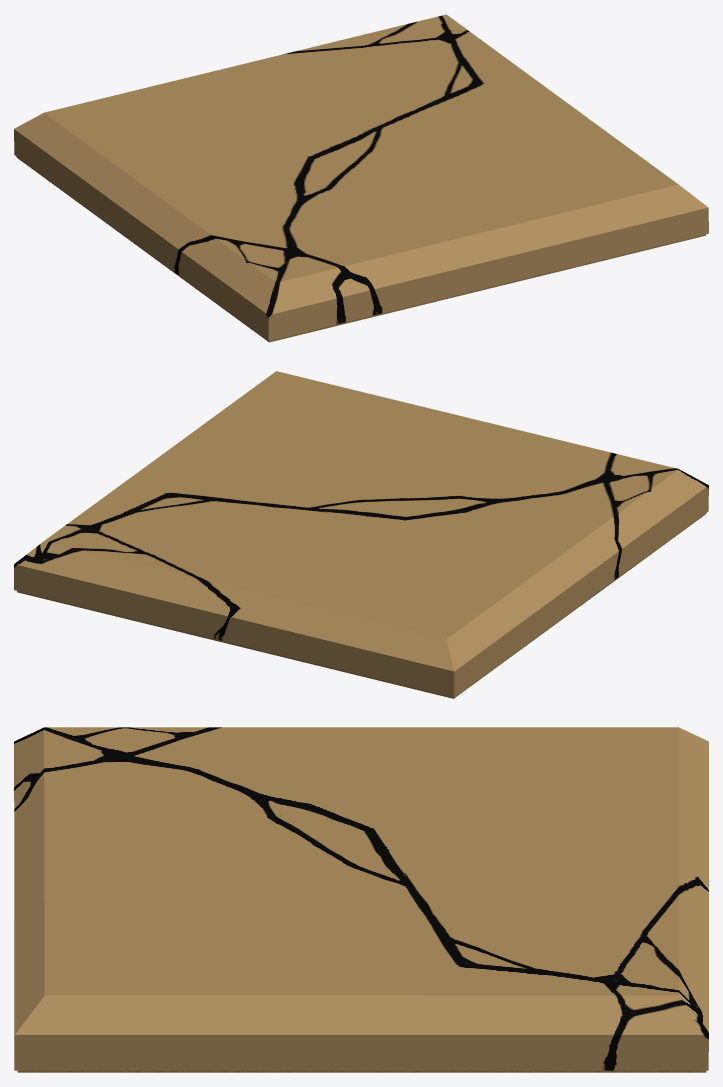
The model's file is 3D_Trap_fracture_01.fbx.
3 views of the same model, one above another, from view 1: azimuth 30°, elevation 25°; view 2: azimuth 150°, elevation 25°; view 3: azimuth 270°, elevation 25° (orthographic). The views are drawn at different scales.
Visible parts, largest first — view 1: SM_trap_chasm_1stphase, SM_trap_chasm_01; view 2: SM_trap_chasm_1stphase, SM_trap_chasm_01; view 3: SM_trap_chasm_1stphase, SM_trap_chasm_01.
Part boxes in pixels (left/top/right/bottom): SM_trap_chasm_1stphase: left=14, top=14, right=708, bottom=340; SM_trap_chasm_01: left=16, top=157, right=705, bottom=342; SM_trap_chasm_1stphase: left=14, top=371, right=708, bottom=697; SM_trap_chasm_01: left=17, top=513, right=706, bottom=698; SM_trap_chasm_1stphase: left=14, top=727, right=708, bottom=1070; SM_trap_chasm_01: left=17, top=1070, right=706, bottom=1072.
Size of the model in its own units: 101 by 10.52 by 101.
3 materials, 3 textured.
